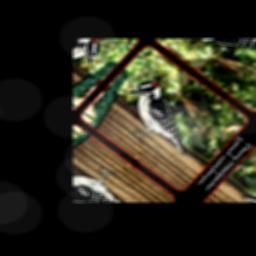Woodpecker: (103, 74, 213, 168)
